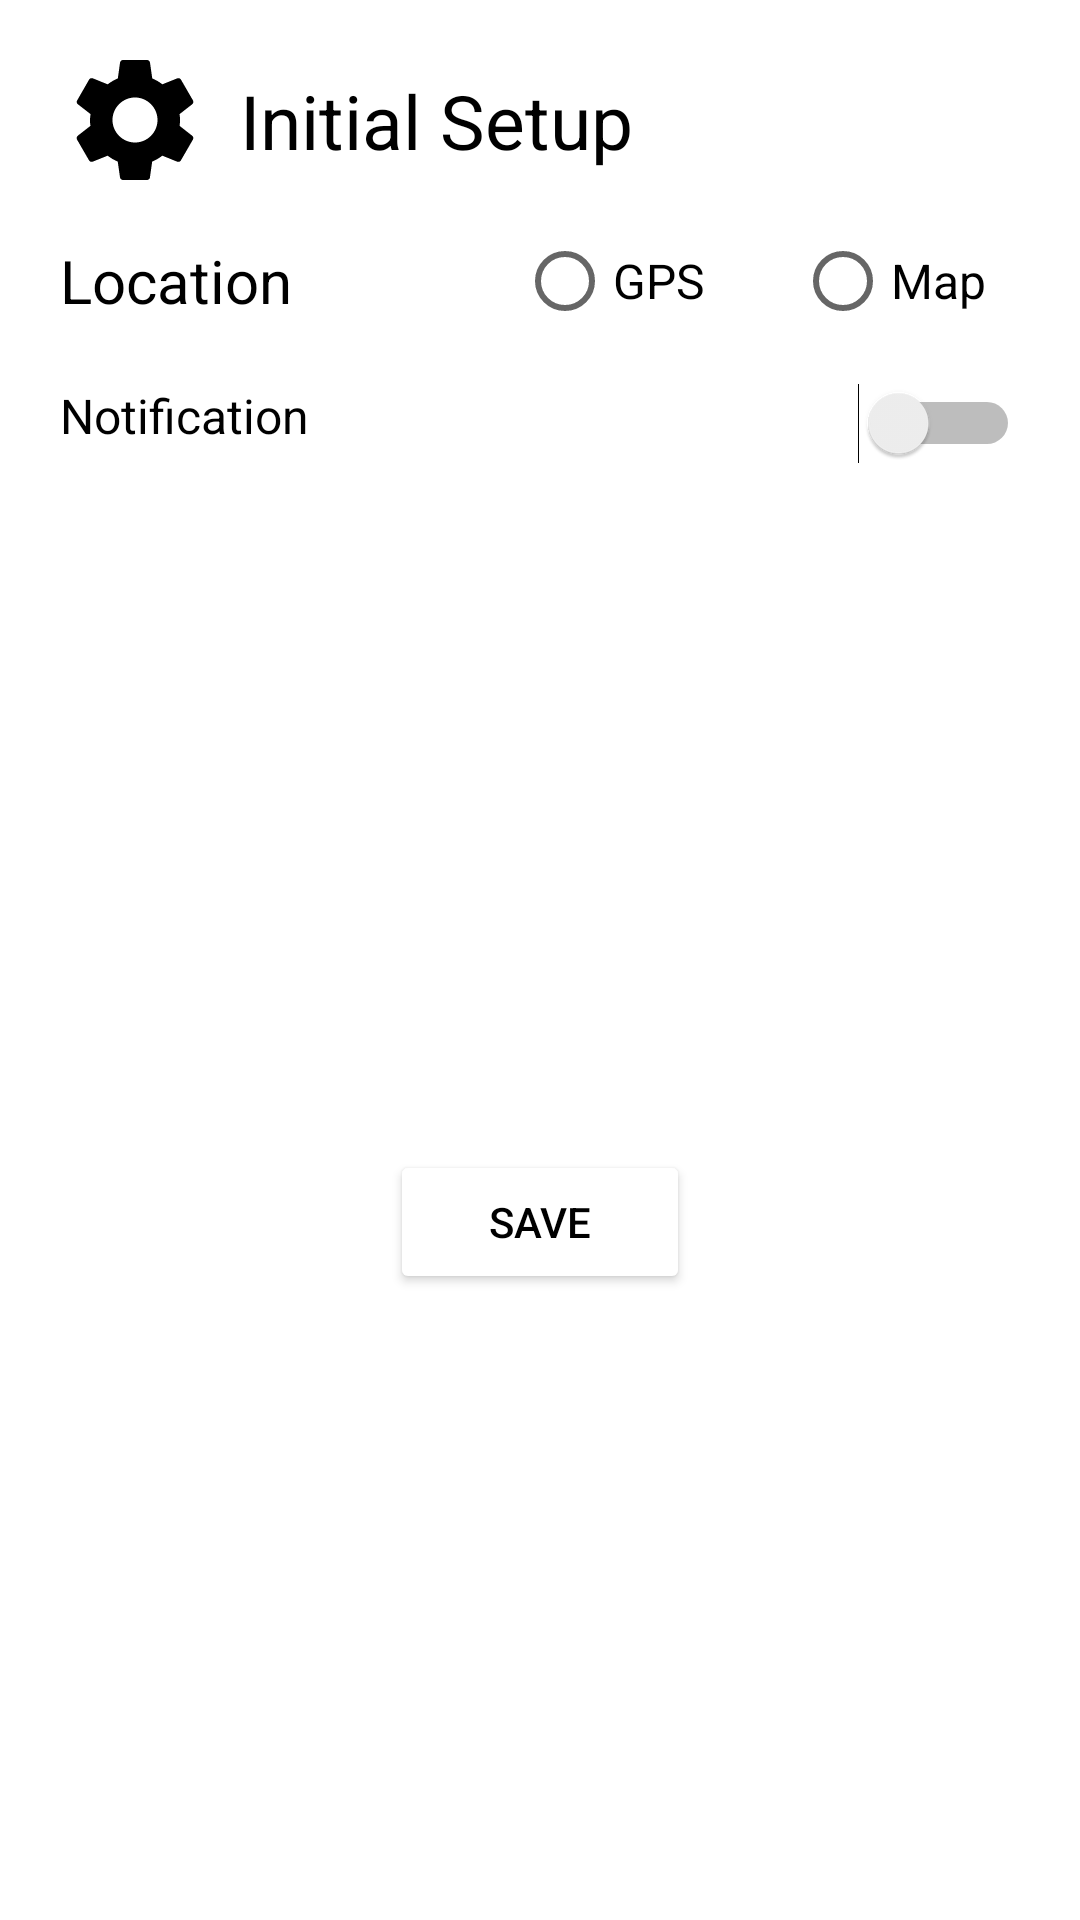

Screen size 1080w x 1920h. Icon name, then its center in pixels as point (x, y):
settings: point (135, 120)
